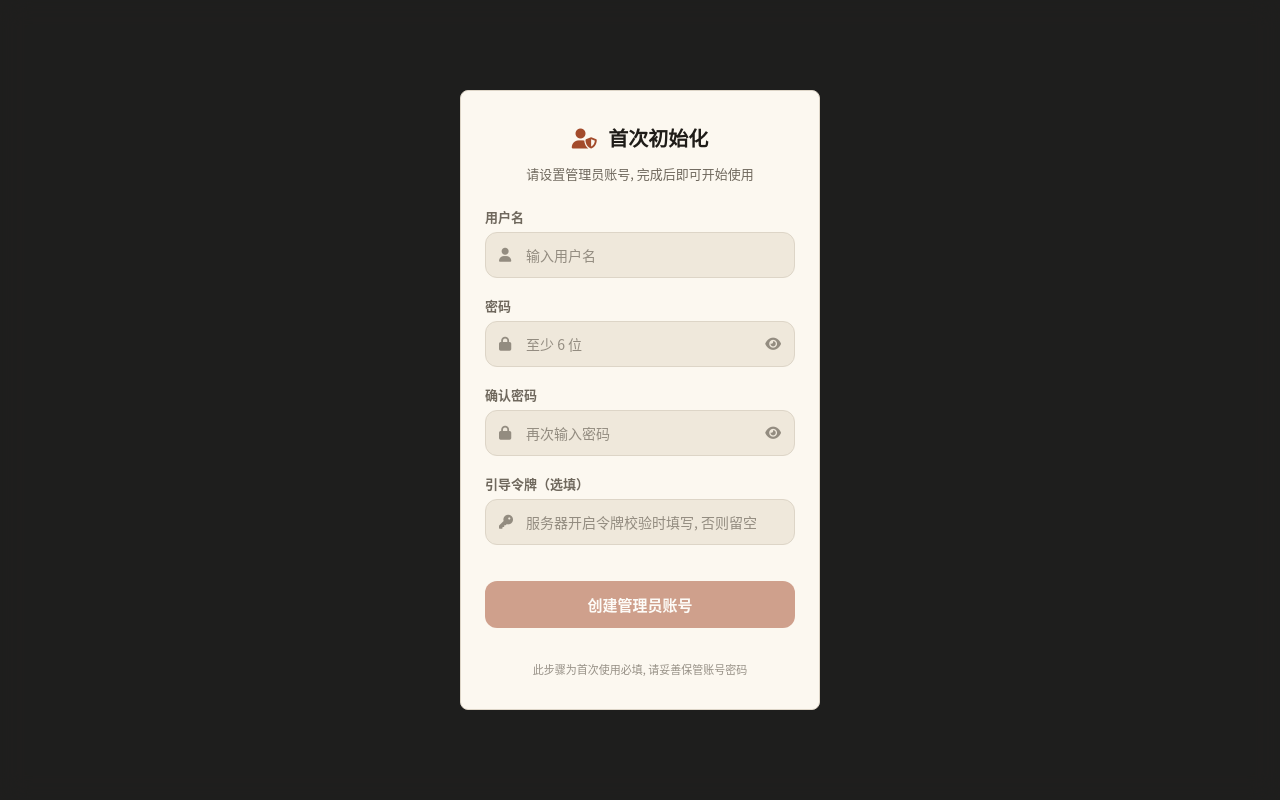
it: SetupOverlay › setup failure › 后端返回失败时显示对应 message
This screenshot has width=1280, height=800.
Step 1. Type "admin" into the field with id "setup-username" → (640, 255), box [485,232,795,278]
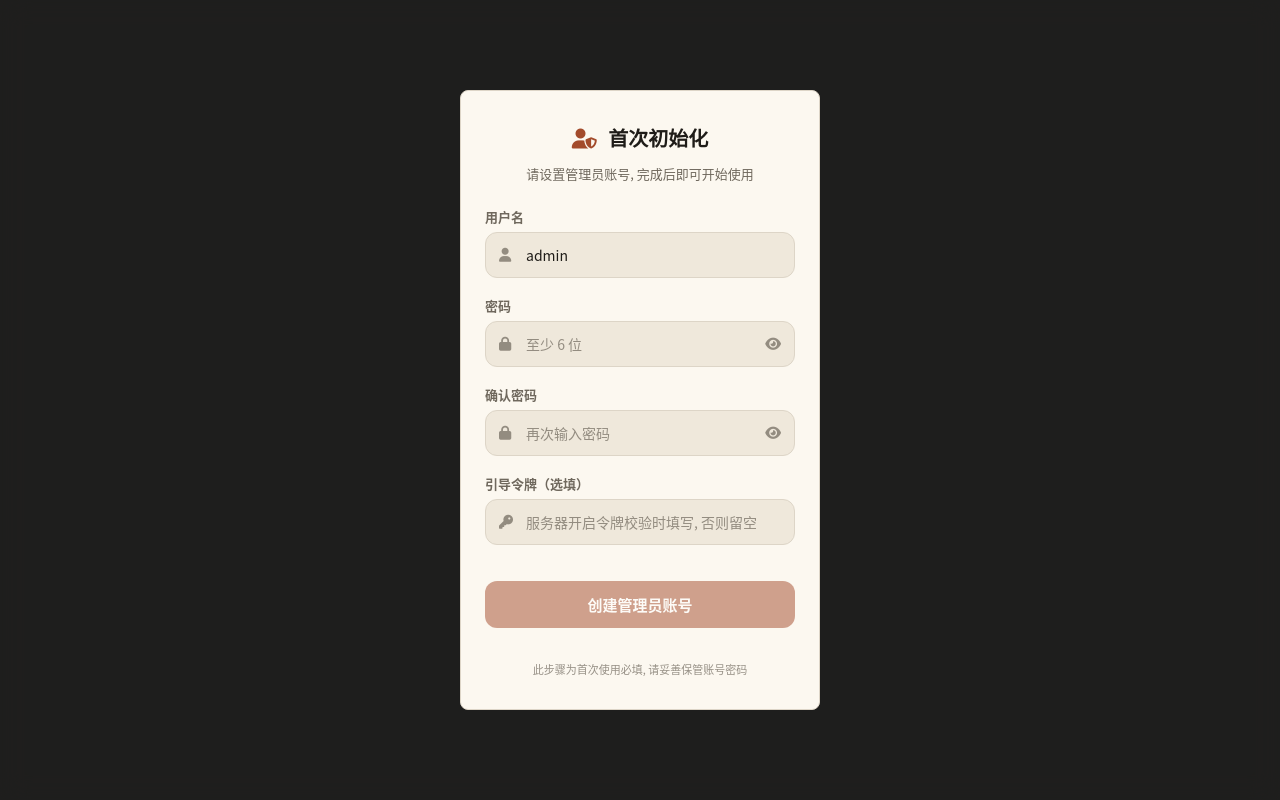
Step 2. Type "123456" into the password field with id "setup-password" → (640, 344), box [485,321,795,367]
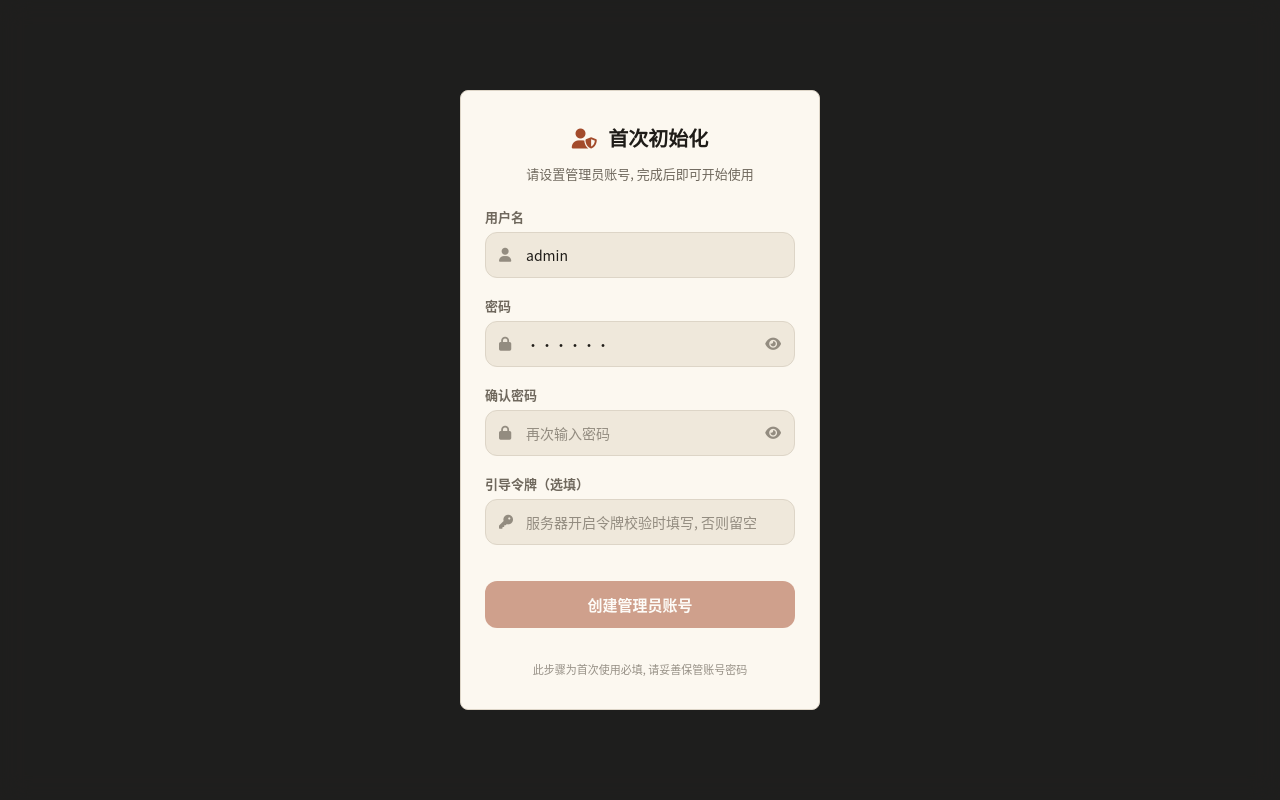
Step 3. Type "123456" into the password field with id "setup-confirm" → (640, 433), box [485,410,795,456]
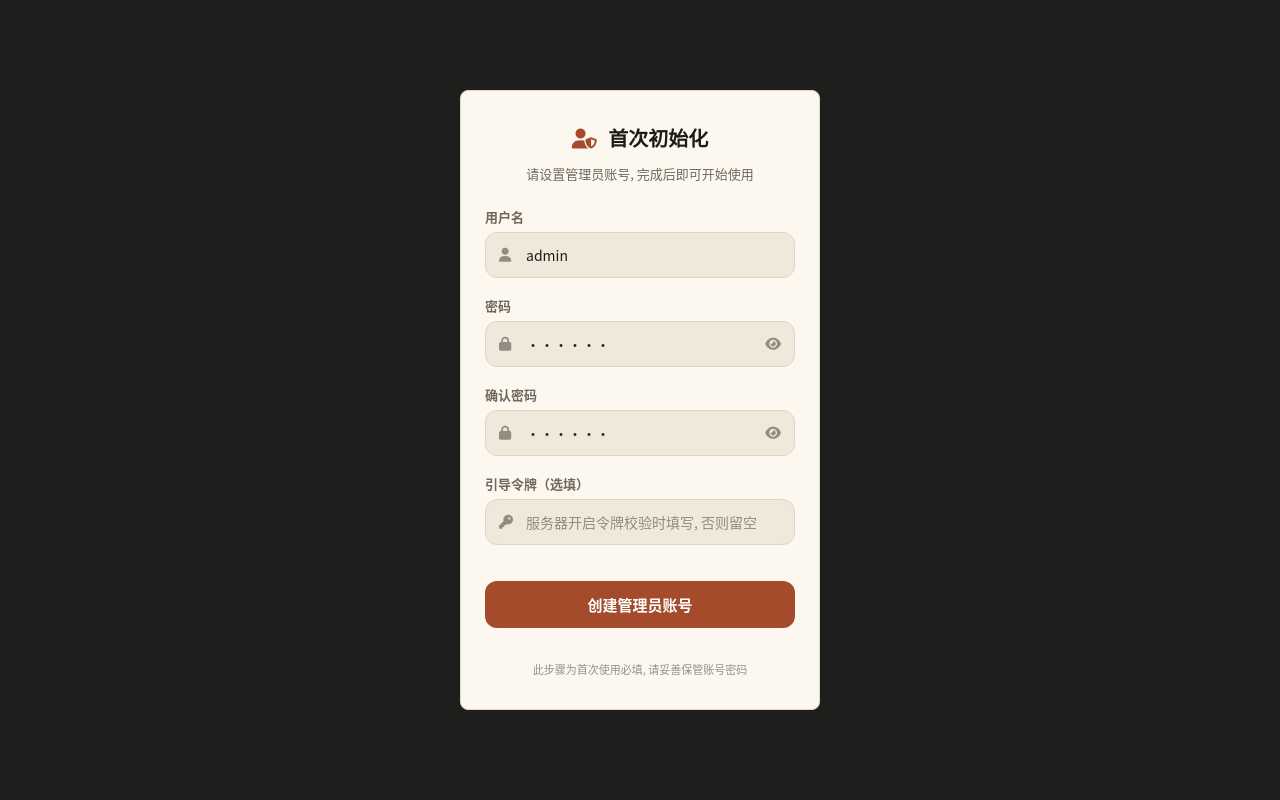
Step 4. Submit the form, box [485,207,795,677]
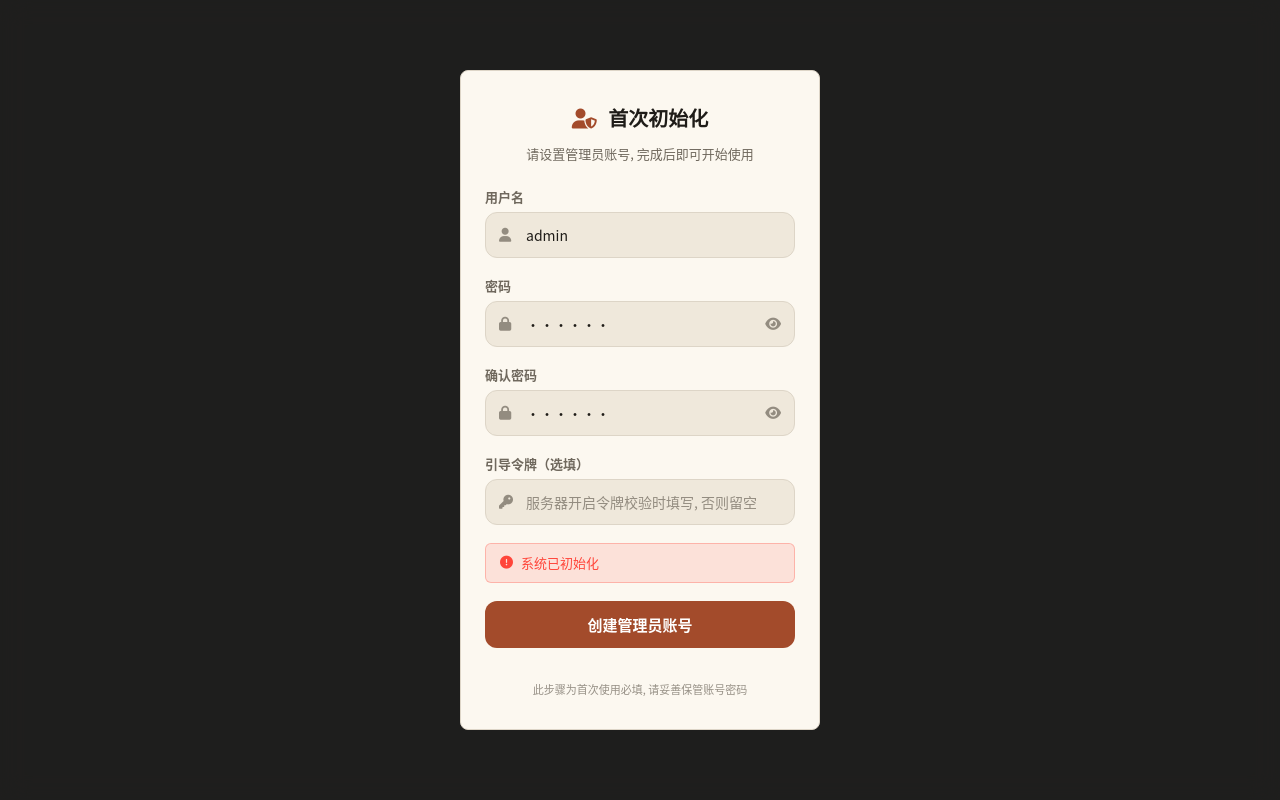
Expected: the element with class "setup-error" reads "系统已初始化", [521,553,599,572]
